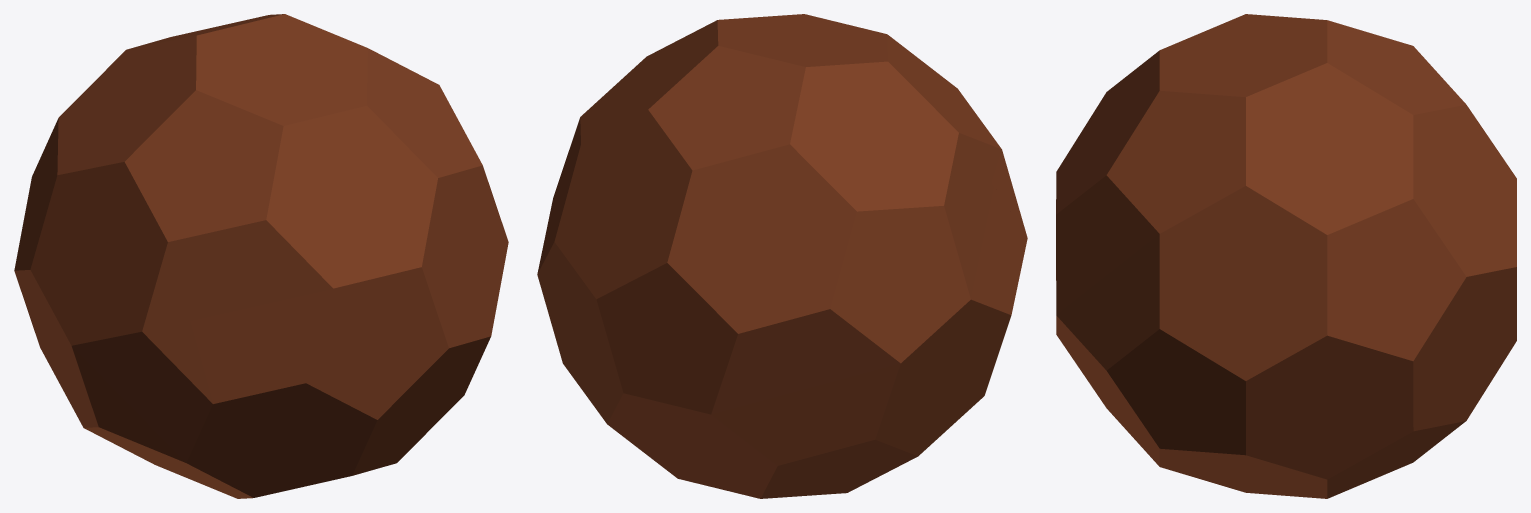
Rendered from Comet_1_ruined.fbx.
The picture shows the model from 3 angles, left to right: view 1: azimuth 30°, elevation 25°; view 2: azimuth 150°, elevation 25°; view 3: azimuth 270°, elevation 25°; orthographic projection.
Visible parts, largest first — view 1: Platonic, Platonic_3, Platonic_2; view 2: Platonic_2, Platonic_3, Platonic; view 3: Platonic_2, Platonic.
Part boxes in pixels (left/top/right/bottom): Platonic: left=125, top=48, right=508, bottom=497; Platonic_3: left=14, top=162, right=253, bottom=498; Platonic_2: left=32, top=14, right=367, bottom=176; Platonic_2: left=537, top=14, right=958, bottom=498; Platonic_3: left=711, top=133, right=1027, bottom=498; Platonic: left=582, top=14, right=1027, bottom=237; Platonic_2: left=1159, top=14, right=1516, bottom=479; Platonic: left=1056, top=50, right=1412, bottom=498.
Size of the model in its own units: 193 by 189 by 184.
